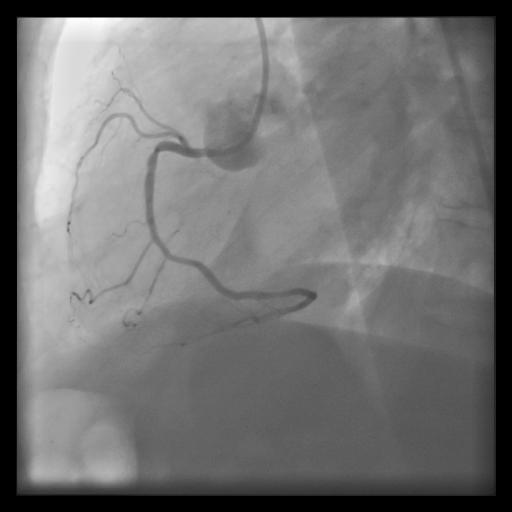Stenosis: (145, 137, 164, 163)
